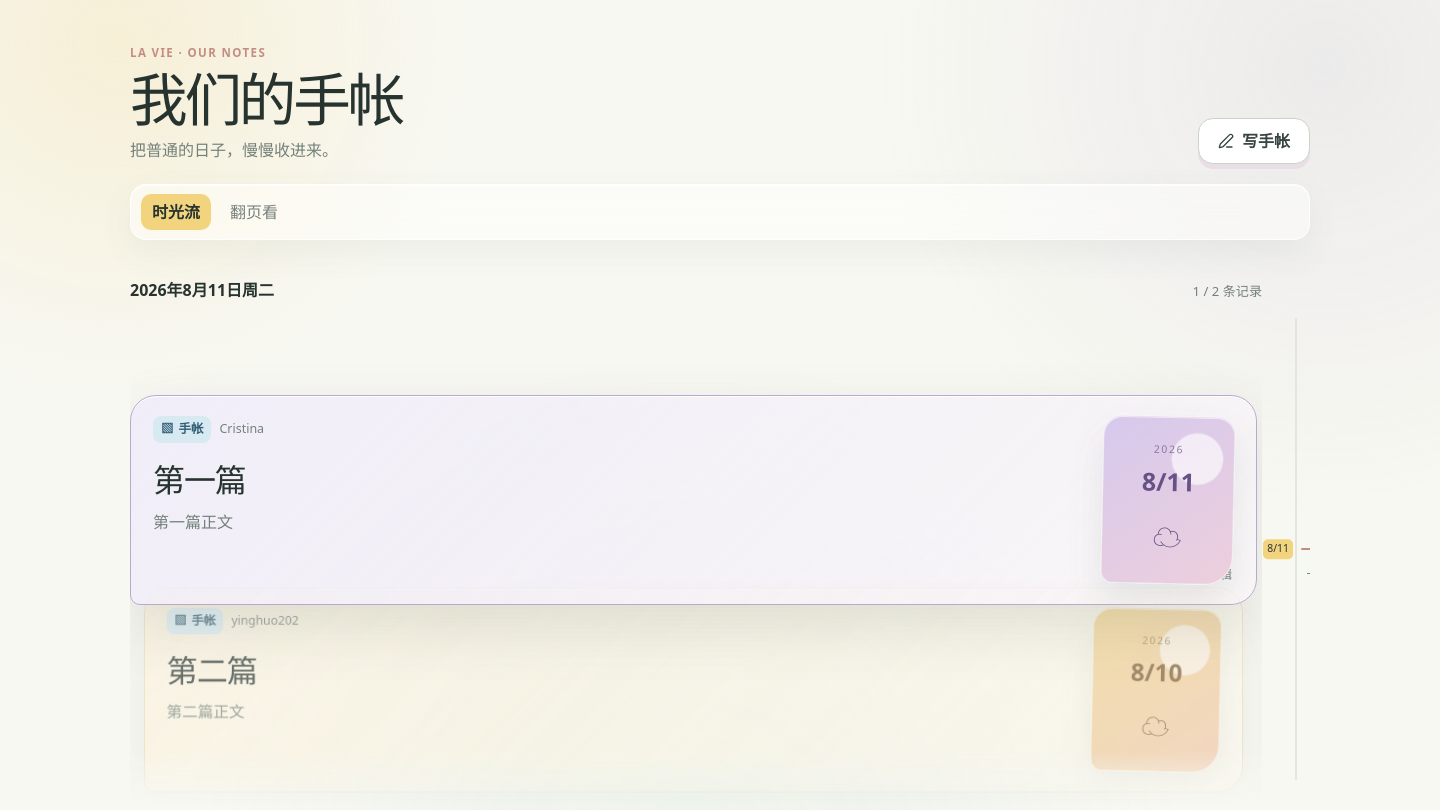
Test: JournalWorkspace › switches reader entries with a horizontal swipe
Expected: the heading "第一篇" is shown, [153,458,246,501]
Click the tab "翻页看" at (254, 212), box [219,194,289,230]
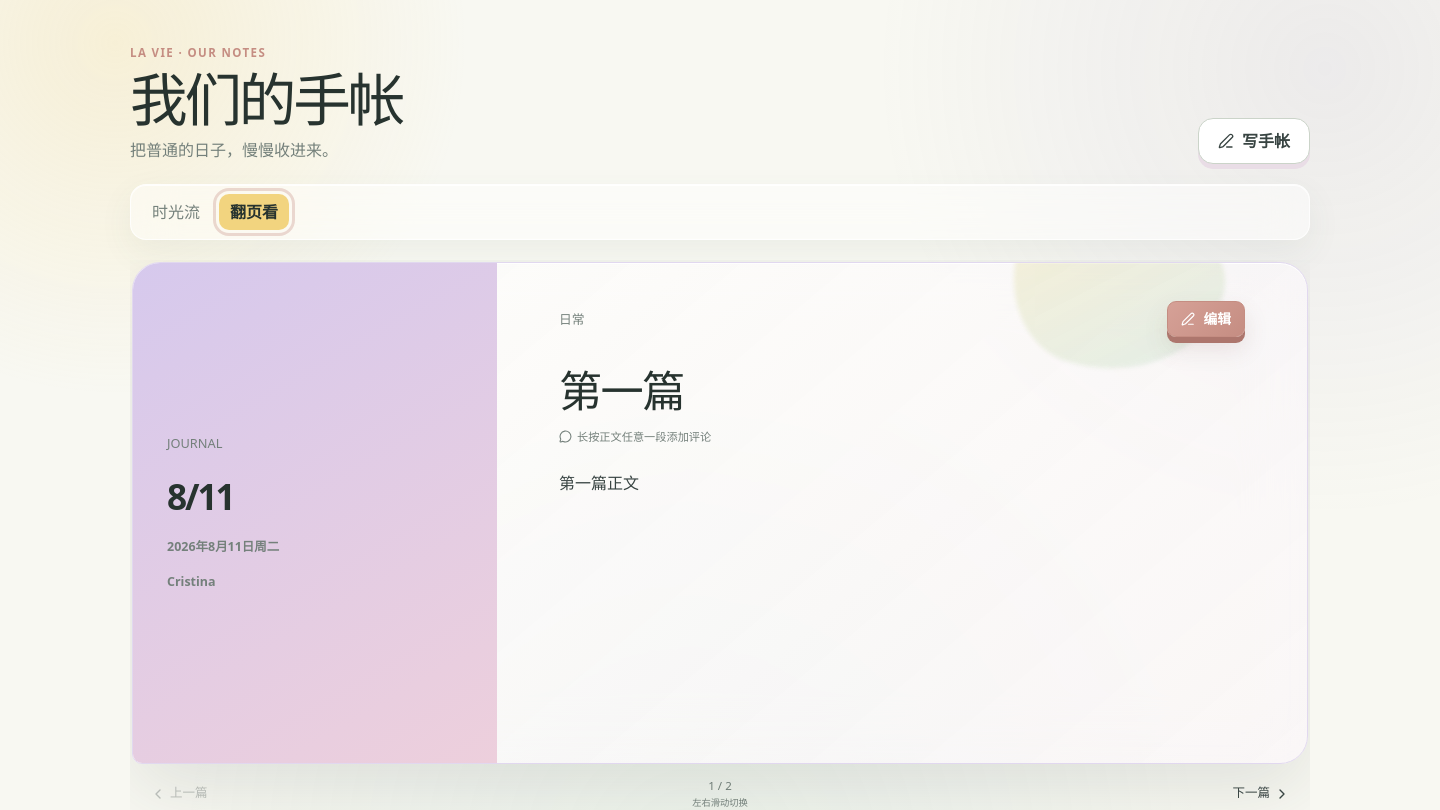
Press the mouse on the element named "左右滑动" at (720, 513), box [132,262,1308,764]
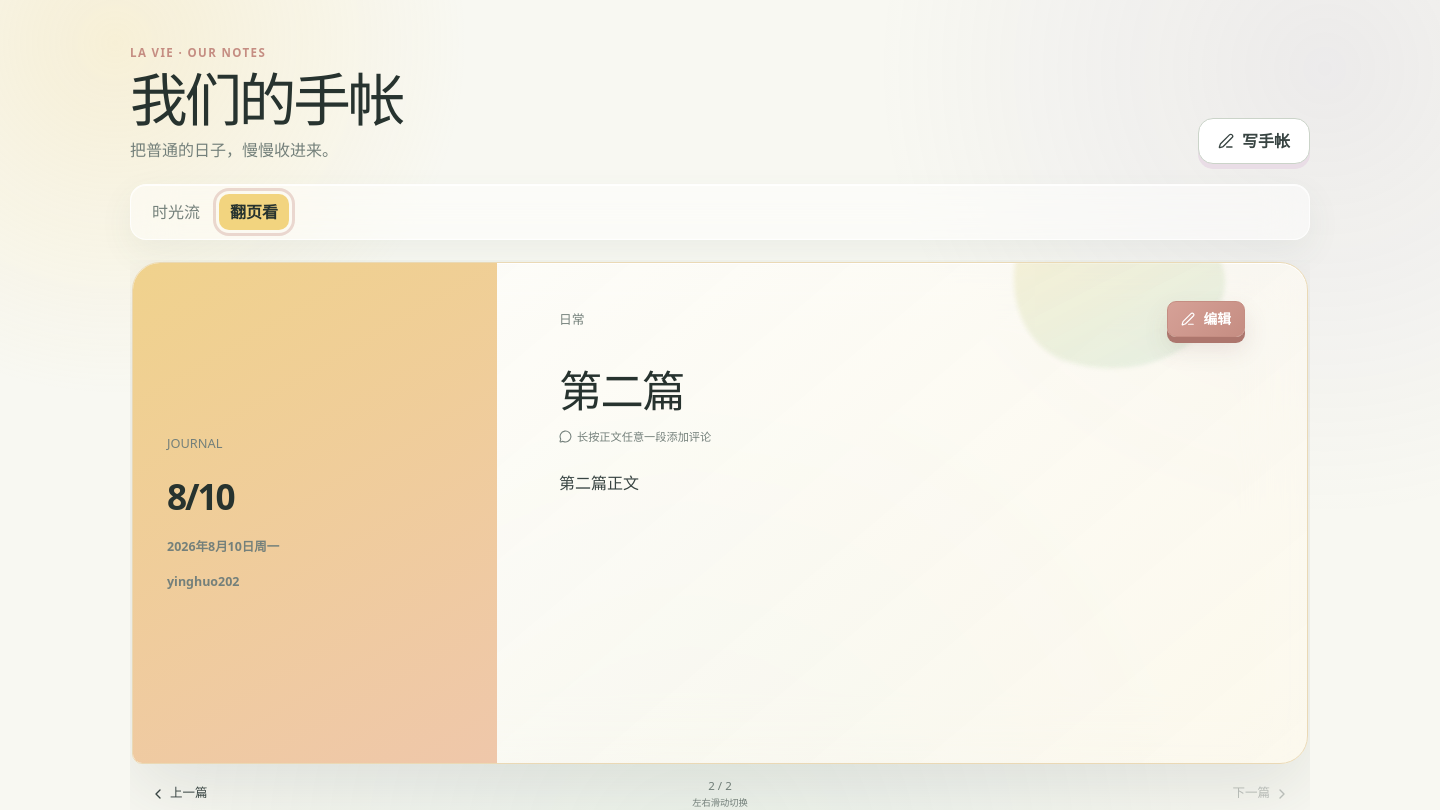
Now the heading "第二篇" is shown, box [559,361,684,420]
Now the text "2 / 2" is shown, box [692,777,748,809]
